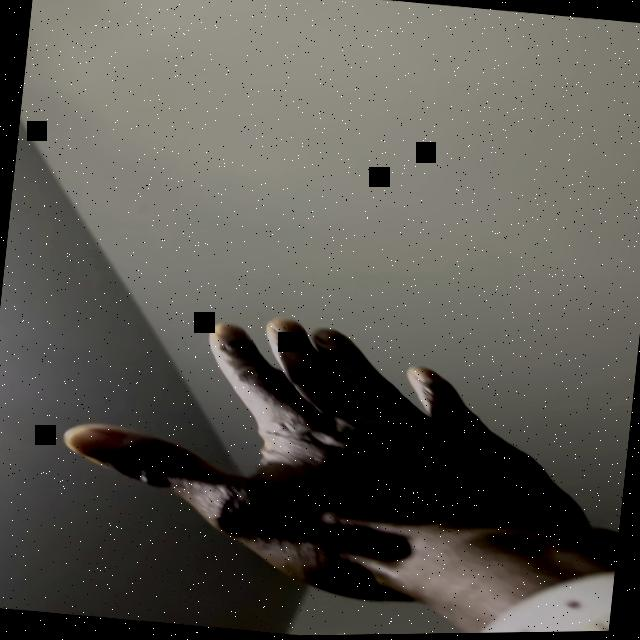Paper: (45, 293, 612, 629)
